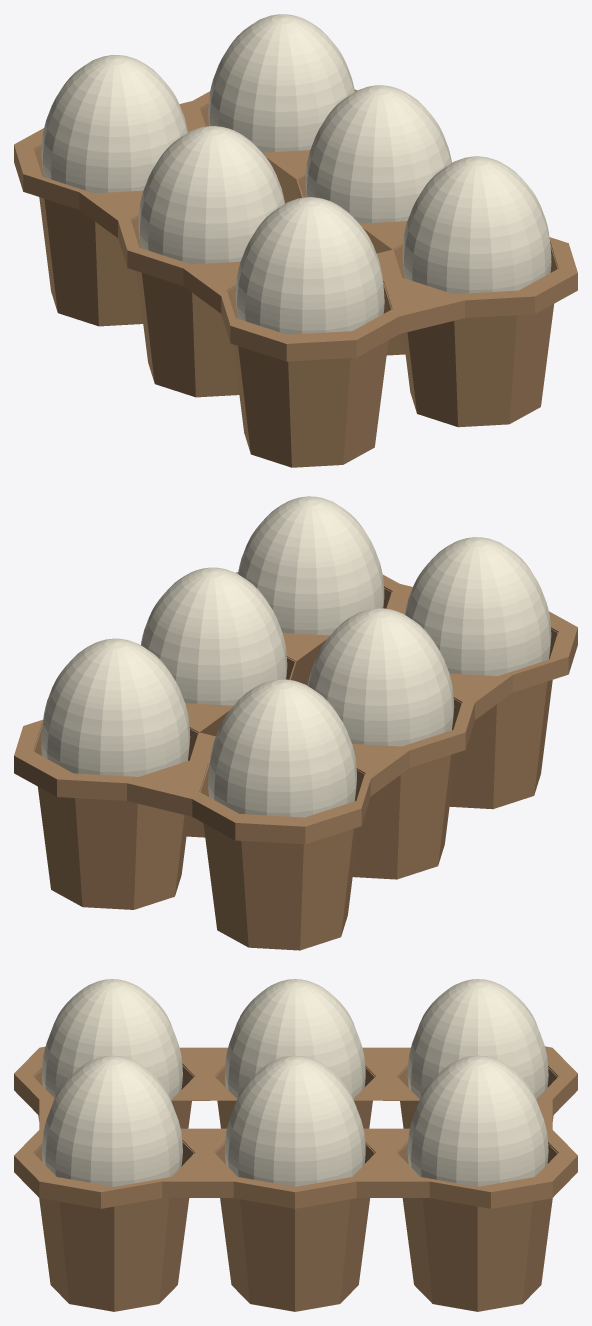
File: Egg Box Unwrap.fbx
The picture shows the model from 3 angles, top to bottom: view 1: azimuth 30°, elevation 25°; view 2: azimuth 150°, elevation 25°; view 3: azimuth 270°, elevation 25°; orthographic projection. The views are drawn at different scales.
Visible parts, largest first — view 1: Cylinder.003; view 2: Cylinder.003; view 3: Cylinder.003.
Boxes of the visible parts, box(x1,y1,x2,y2) form: Cylinder.003: box(14, 14, 577, 467); Cylinder.003: box(14, 496, 577, 950); Cylinder.003: box(14, 979, 577, 1311).
Bounding box in the file's own units: 203 × 137 × 311.
